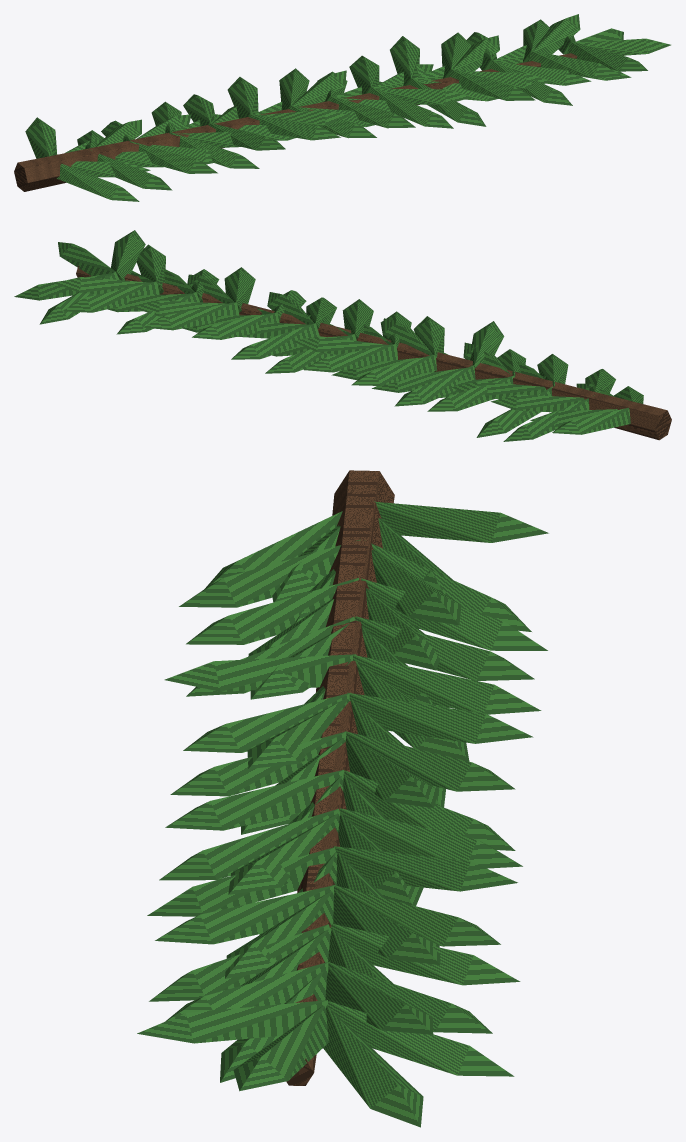
The model's file is pine_bough.glb.
The picture shows the model from 3 angles, top to bottom: view 1: azimuth 30°, elevation 25°; view 2: azimuth 150°, elevation 25°; view 3: azimuth 270°, elevation 25°; orthographic projection. The views are drawn at different scales.
Parts seen in each view (by area): view 1: block_branch, block_spray0-1.1, block_spray12-1.1, block_spray10-1.1, block_spray8-1.1, block_spray5-1.1, block_spray13-1.1, block_spray2-1.1, block_spray7-1.1, block_spray8-0.5, block_spray1-1.1, block_spray13-0.5 (+34 smaller); view 2: block_branch, block_spray61.1, block_spray101.1, block_spray81.1, block_spray121.1, block_spray51.1, block_spray41.1, block_spray01.1, block_spray91.1, block_spray10.5, block_spray13-1.1, block_spray11.1 (+32 smaller); view 3: block_branch, block_spray130.5, block_spray51.1, block_spray13-1.1, block_spray7-1.1, block_spray01.1, block_spray131.1, block_spray41.1, block_spray91.1, block_spray81.1, block_spray10-1.1, block_spray4-1.1 (+38 smaller).
Boxes of the visible parts, x1,y1,x2,y2 form: block_branch: (14, 53, 623, 191); block_spray0-1.1: (56, 164, 139, 201); block_spray12-1.1: (528, 50, 621, 78); block_spray10-1.1: (448, 68, 535, 100); block_spray8-1.1: (369, 87, 453, 128); block_spray5-1.1: (249, 114, 340, 140); block_spray13-1.1: (567, 41, 647, 71); block_spray2-1.1: (130, 141, 217, 173); block_spray7-1.1: (329, 96, 415, 128); block_spray8-0.5: (370, 88, 470, 104); block_spray1-1.1: (91, 150, 172, 190); block_spray13-0.5: (577, 38, 670, 55); block_branch: (76, 265, 671, 440); block_spray61.1: (303, 344, 397, 372); block_spray101.1: (143, 302, 239, 330); block_spray81.1: (231, 323, 319, 359); block_spray121.1: (63, 281, 159, 312); block_spray51.1: (351, 354, 436, 385); block_spray41.1: (394, 365, 475, 406); block_spray01.1: (552, 407, 630, 434); block_spray91.1: (192, 312, 279, 339); block_spray10.5: (491, 394, 584, 412); block_spray13-1.1: (111, 230, 145, 280); block_spray11.1: (503, 398, 589, 441); block_branch: (286, 470, 394, 1085); block_spray130.5: (323, 1006, 423, 1127); block_spray51.1: (347, 692, 533, 743); block_spray13-1.1: (137, 1000, 328, 1043); block_spray7-1.1: (165, 770, 344, 830); block_spray01.1: (374, 501, 548, 542); block_spray131.1: (327, 1001, 514, 1076); block_spray41.1: (353, 654, 541, 714); block_spray91.1: (334, 846, 517, 891); block_spray81.1: (339, 808, 522, 868); block_spray10-1.1: (155, 885, 334, 944); block_spray4-1.1: (164, 654, 356, 691).
Bounding box in the file's own units: 0.4256 × 0.0219 × 0.1226.
1 material, 1 textured.
